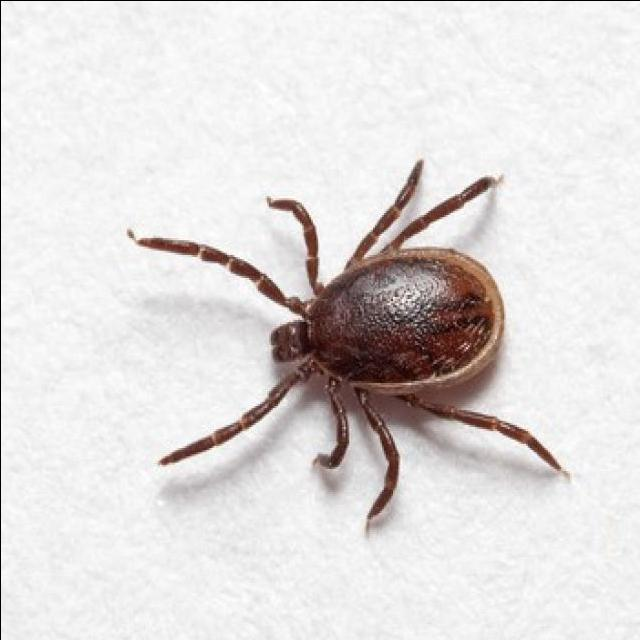Ixodes Ricinus-M: (126, 157, 565, 531)
